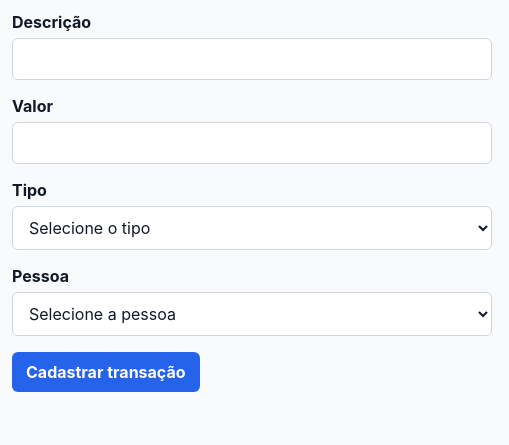
Test: TransacaoForm › mostra erro de receita para menor e preserva os campos
Type "Mesada" into the field labelled "Descrição" at (252, 59), box [12,38,492,80]
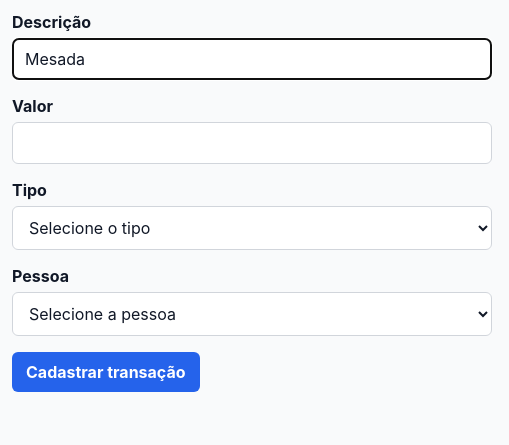
Type "100" into the field labelled "Valor" at (252, 143), box [12,122,492,164]
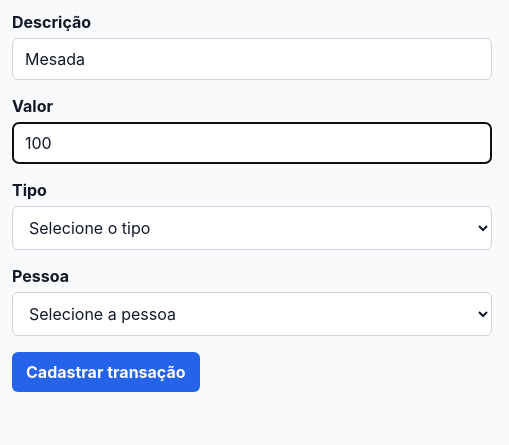
Select "Receita" in the dropdown labelled "Tipo" at (252, 228), box [12,206,492,250]
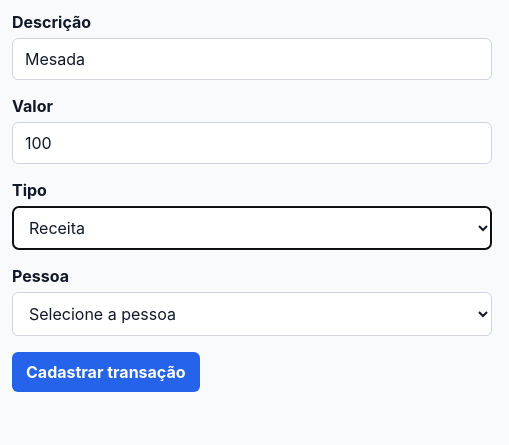
Select "Maria" in the dropdown labelled "Pessoa" at (252, 314), box [12,292,492,336]
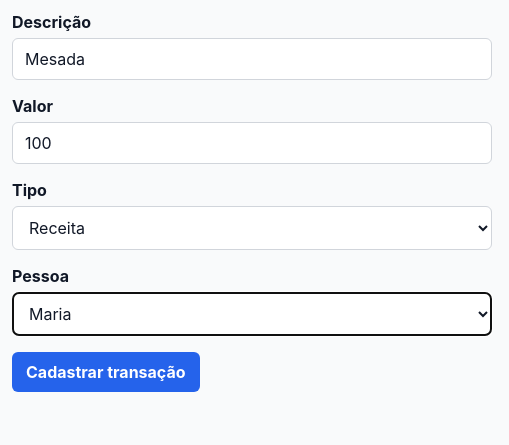
Click the button "Cadastrar transação" at (106, 372), box [12,352,200,392]
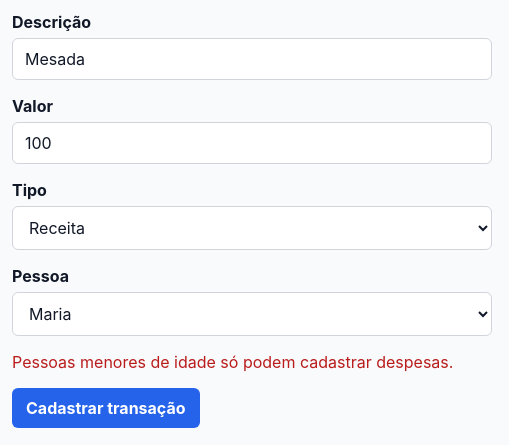
Expected: the text "Pessoas menores de idade só podem cadastrar despesas." is shown, [12,352,492,372]
